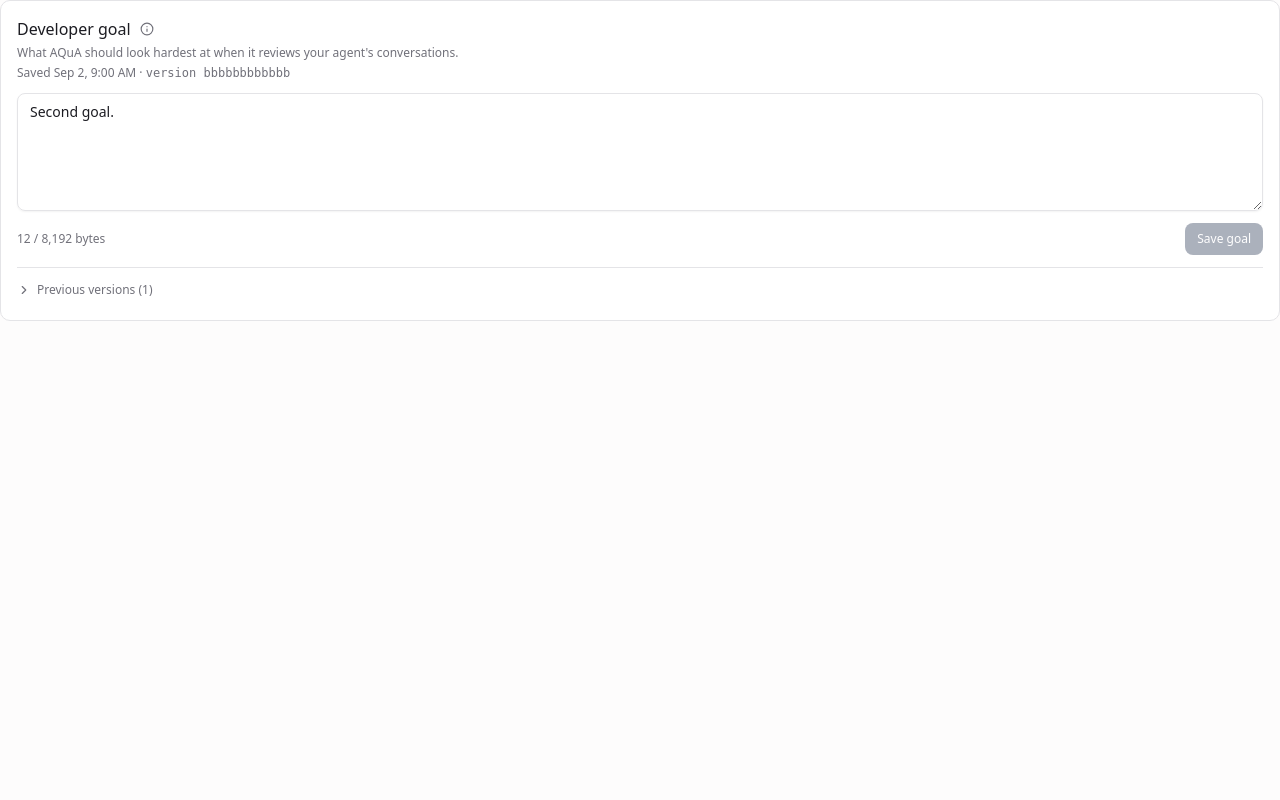
Test case: GoalCard history › shows a long version in full only when asked
Click the button "Previous versions (1)".
click(90, 290)  # box [9, 276, 1271, 304]
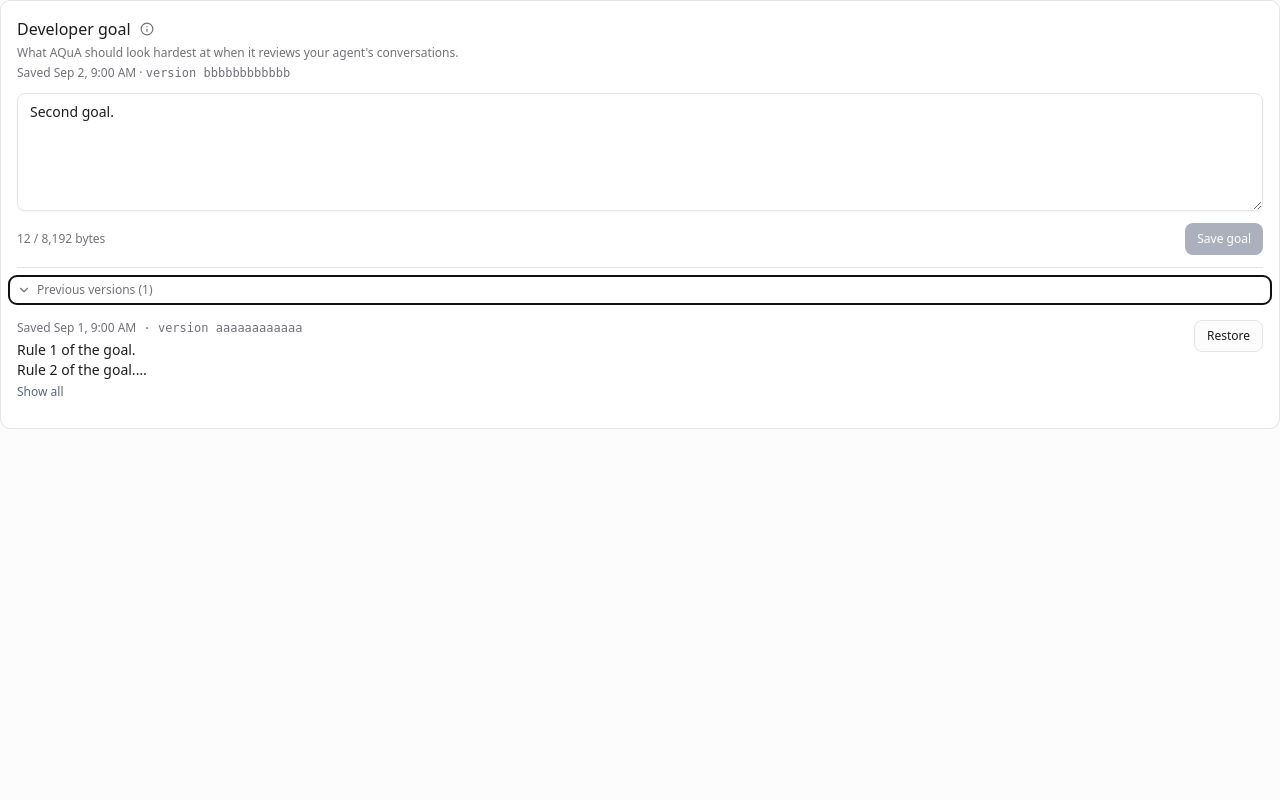
Expected: the number of buttons "Show all" is 1
Click the button "Show all".
click(40, 392)  # box [17, 384, 64, 400]
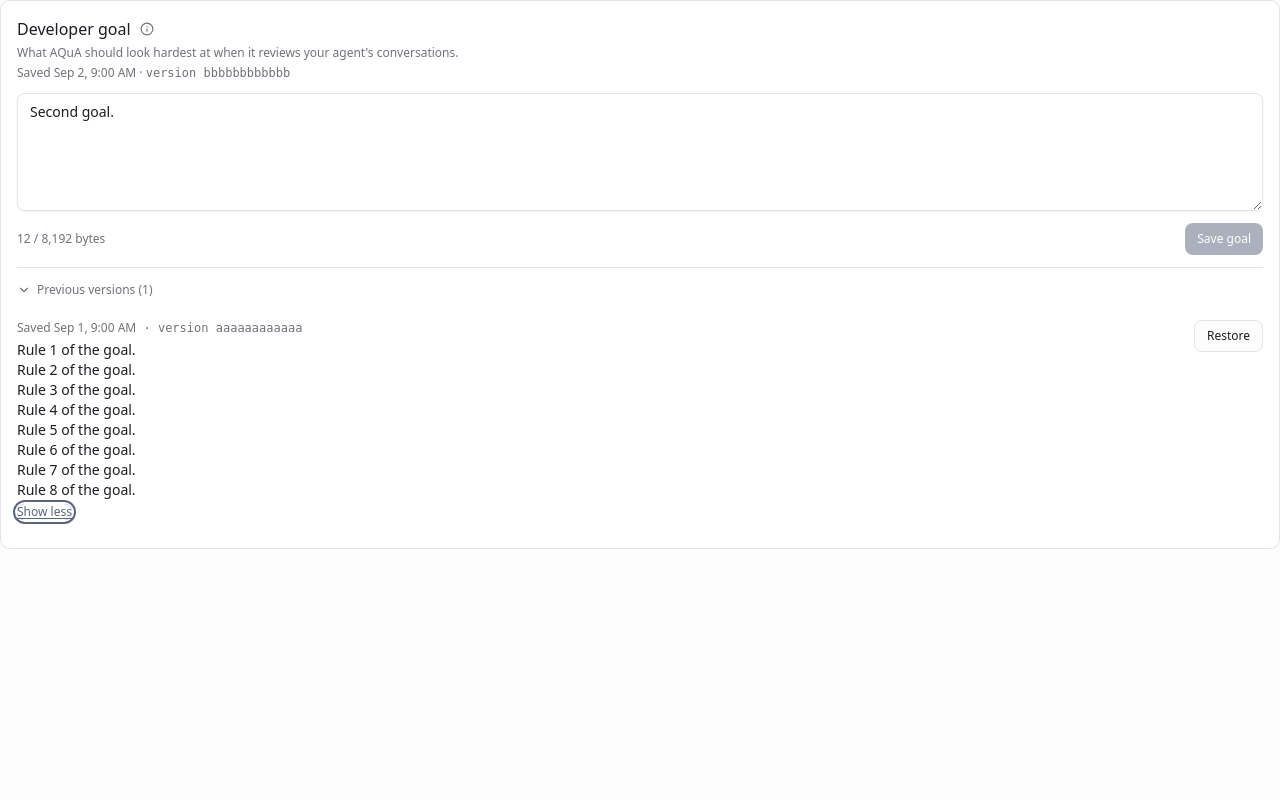
Expected: the text "Rule 8 of the goal." is shown, [17, 340, 136, 499]
Expected: the button "Show less" is shown, [17, 504, 72, 520]
